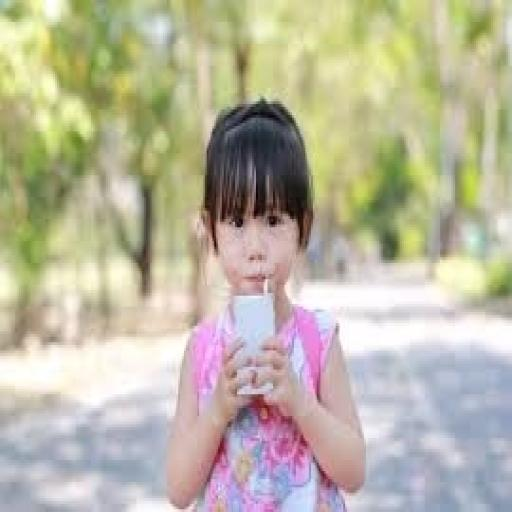drinking: (230, 89, 312, 397)
